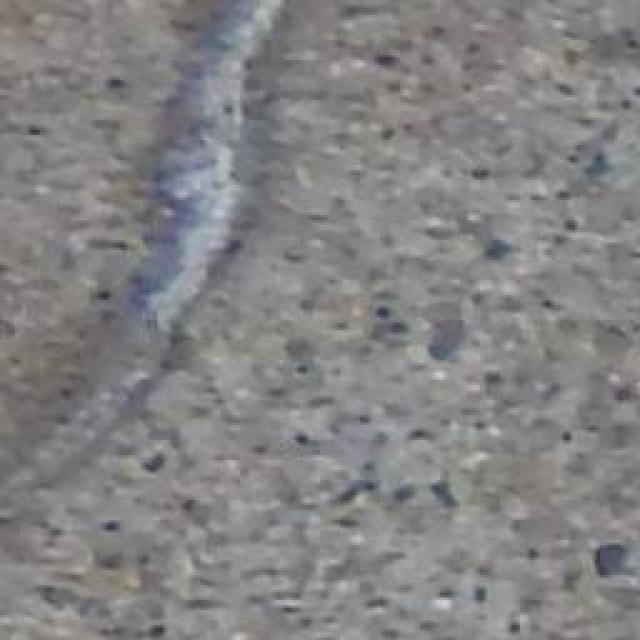concrete-crack: (0, 2, 311, 520)
